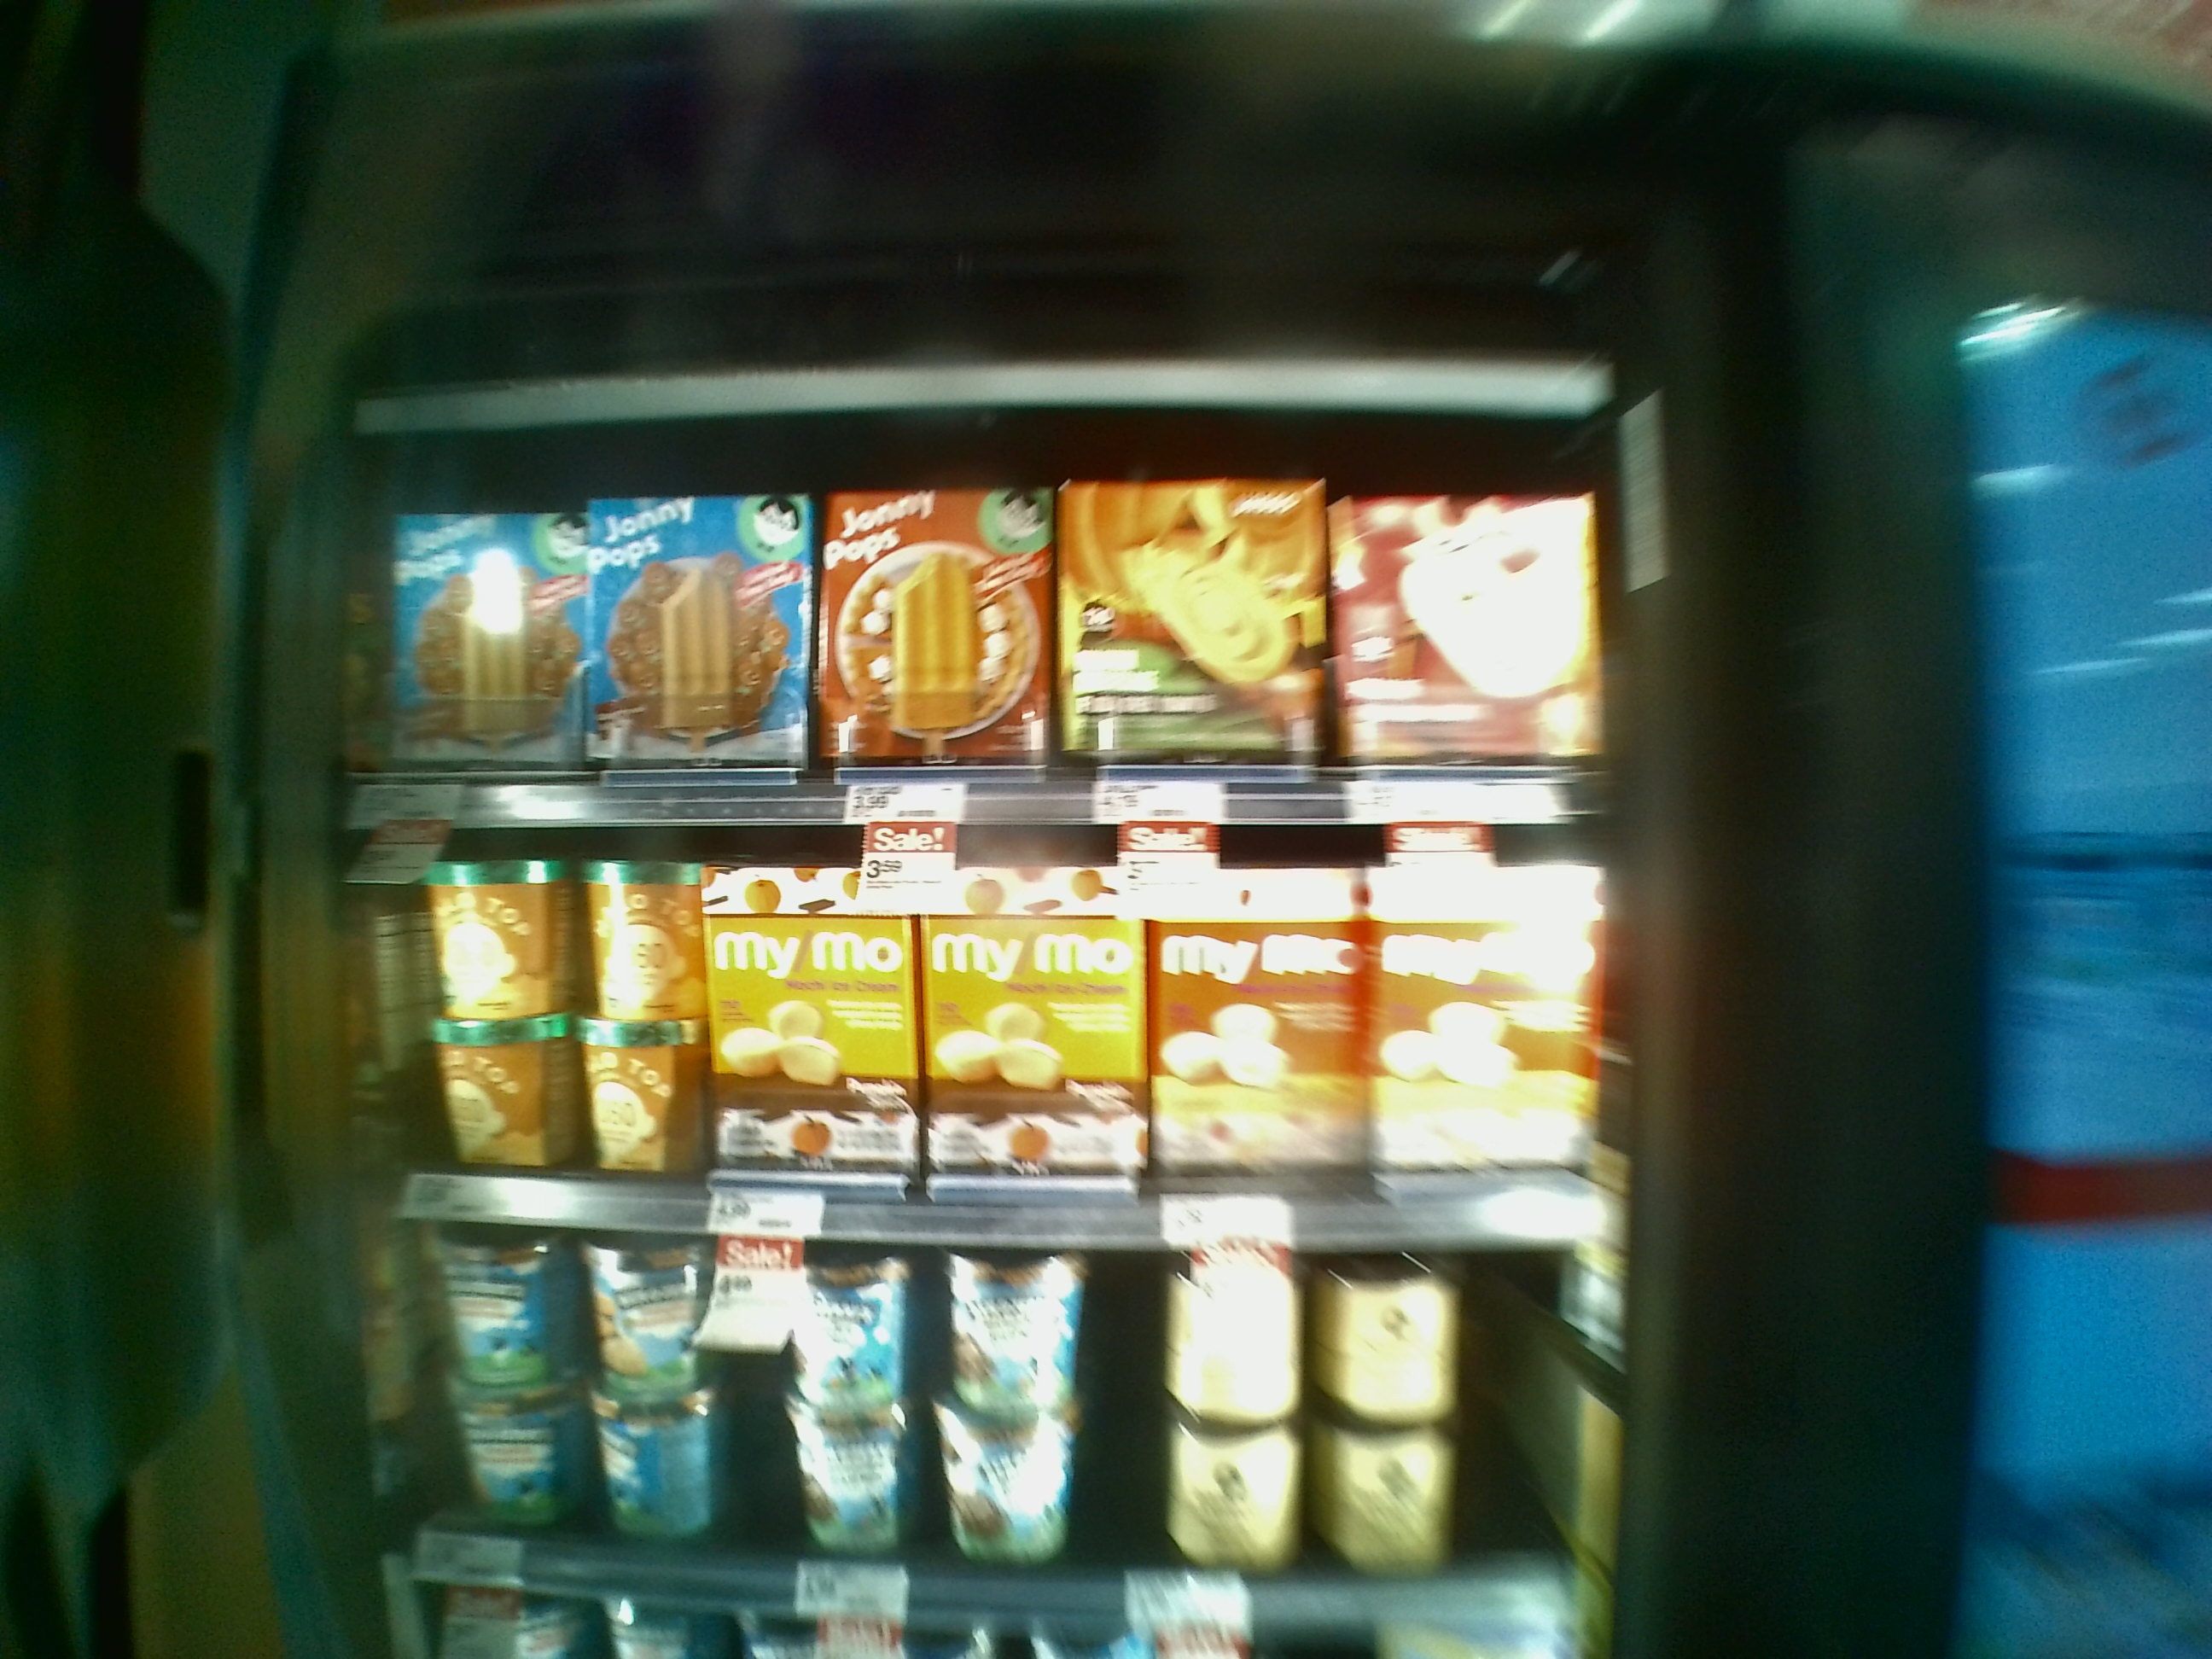shelf: (327, 809, 1627, 1244), (347, 1215, 1592, 1629), (347, 450, 1615, 828)
